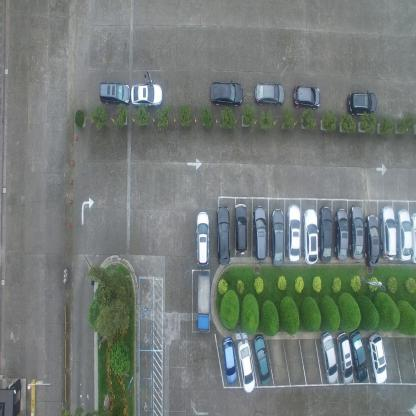car: (368, 333, 388, 385), (237, 339, 255, 394), (210, 79, 243, 108), (320, 331, 338, 384), (380, 206, 397, 262), (350, 330, 368, 382), (253, 334, 271, 385), (196, 271, 211, 331), (364, 212, 380, 268), (336, 332, 353, 384), (131, 80, 163, 107), (287, 202, 301, 263), (396, 208, 412, 261), (216, 206, 230, 266), (252, 206, 267, 262), (303, 209, 318, 265), (334, 206, 349, 262), (254, 80, 285, 107), (349, 204, 363, 261), (293, 82, 321, 110), (196, 210, 210, 266), (222, 336, 238, 385), (347, 90, 377, 116), (100, 80, 130, 106), (271, 208, 284, 268), (319, 206, 332, 264), (234, 203, 248, 256), (410, 211, 416, 264)
